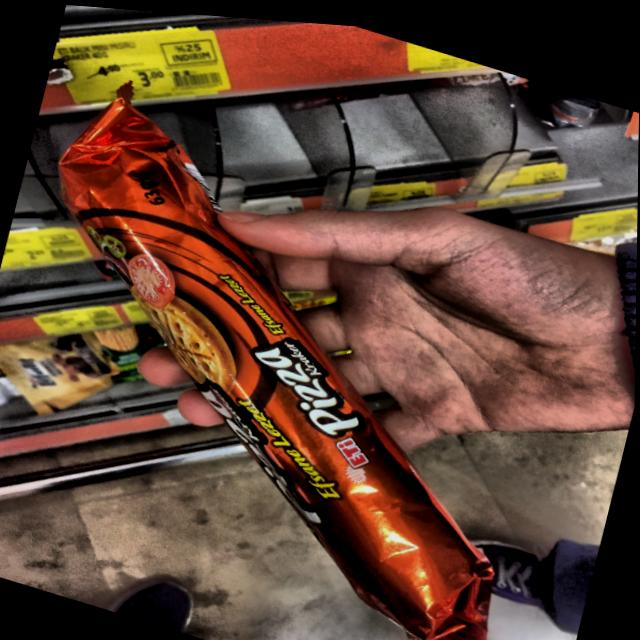Plastic: (0, 47, 633, 640)
